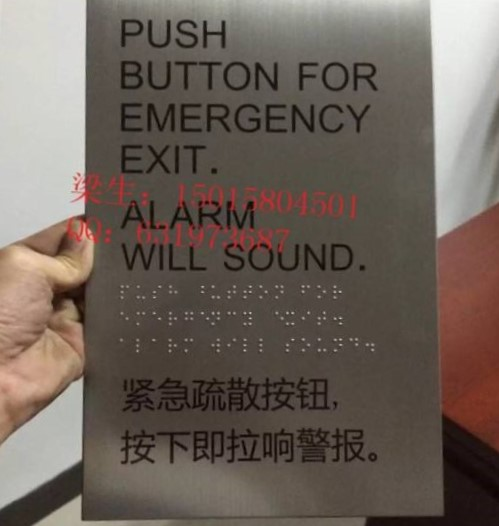Braille: (300, 337, 312, 354), (135, 311, 147, 327), (183, 338, 195, 354), (348, 337, 360, 353), (258, 284, 269, 301), (332, 284, 343, 301), (119, 284, 130, 300), (151, 311, 162, 327), (151, 338, 162, 354), (167, 338, 178, 354), (226, 284, 237, 300), (274, 284, 285, 300), (242, 311, 253, 327), (226, 337, 237, 353), (258, 337, 269, 353), (285, 311, 296, 327), (316, 284, 327, 300), (316, 337, 327, 353), (332, 337, 343, 353), (365, 337, 376, 353), (168, 285, 179, 300), (210, 285, 221, 300), (210, 311, 221, 326), (210, 338, 221, 353), (242, 338, 253, 353), (300, 285, 311, 300), (316, 311, 327, 326), (285, 338, 296, 353), (152, 285, 162, 301), (184, 311, 194, 327), (333, 311, 343, 327), (136, 285, 146, 300), (119, 311, 129, 326), (168, 311, 178, 326), (119, 337, 129, 352), (136, 338, 146, 353), (242, 284, 252, 299), (200, 311, 210, 326), (227, 311, 237, 326), (274, 311, 284, 326), (301, 311, 311, 326), (200, 285, 209, 300)
